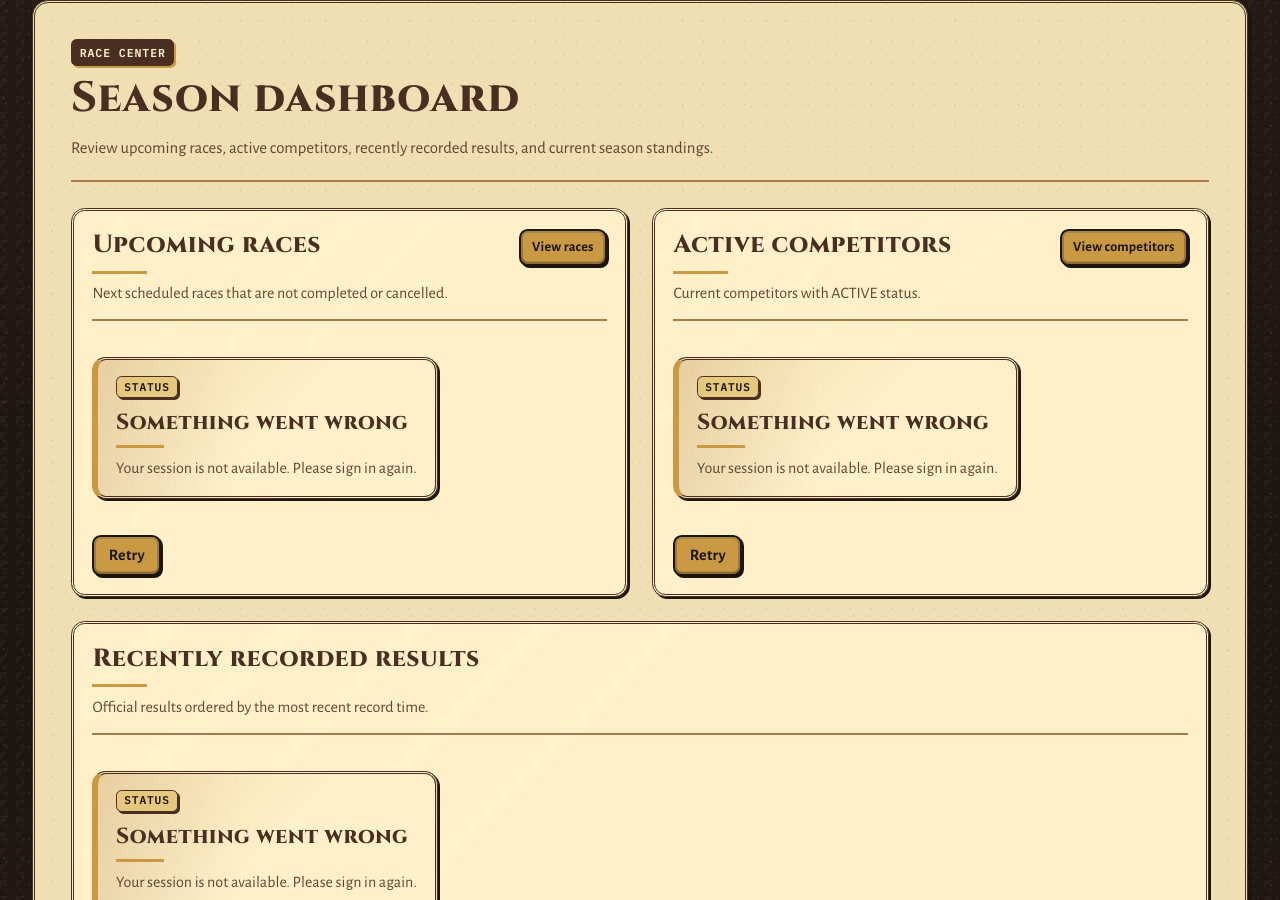
Scenario: HomePage › retries all dashboard requests after a section error
The width and height of the screenshot is (1280, 900).
Click the 1st button "Retry" at (127, 556), box [92,535,162,576]
(page scrolled)
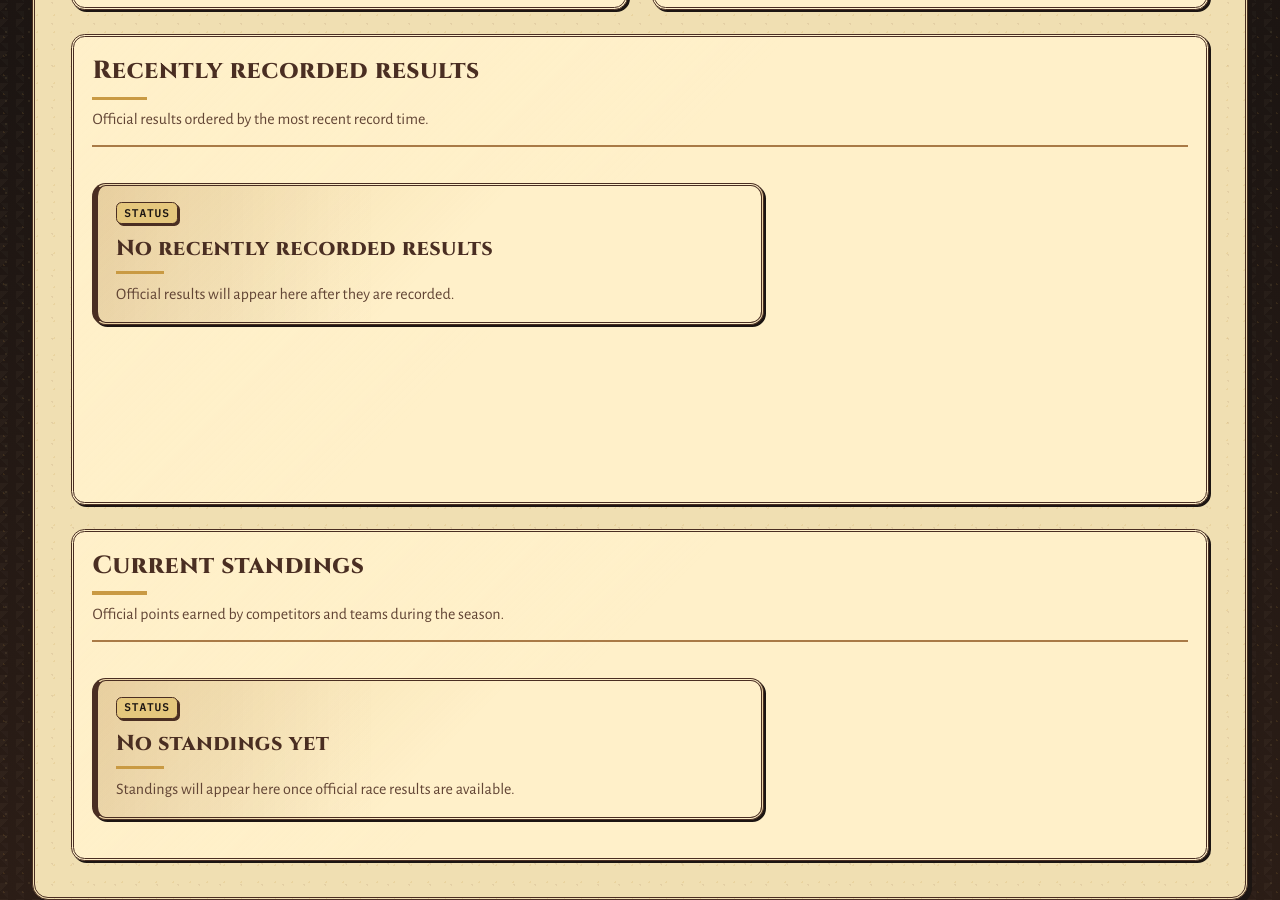
expect the heading "No standings yet" is shown: met, box [116,729,329,758]
